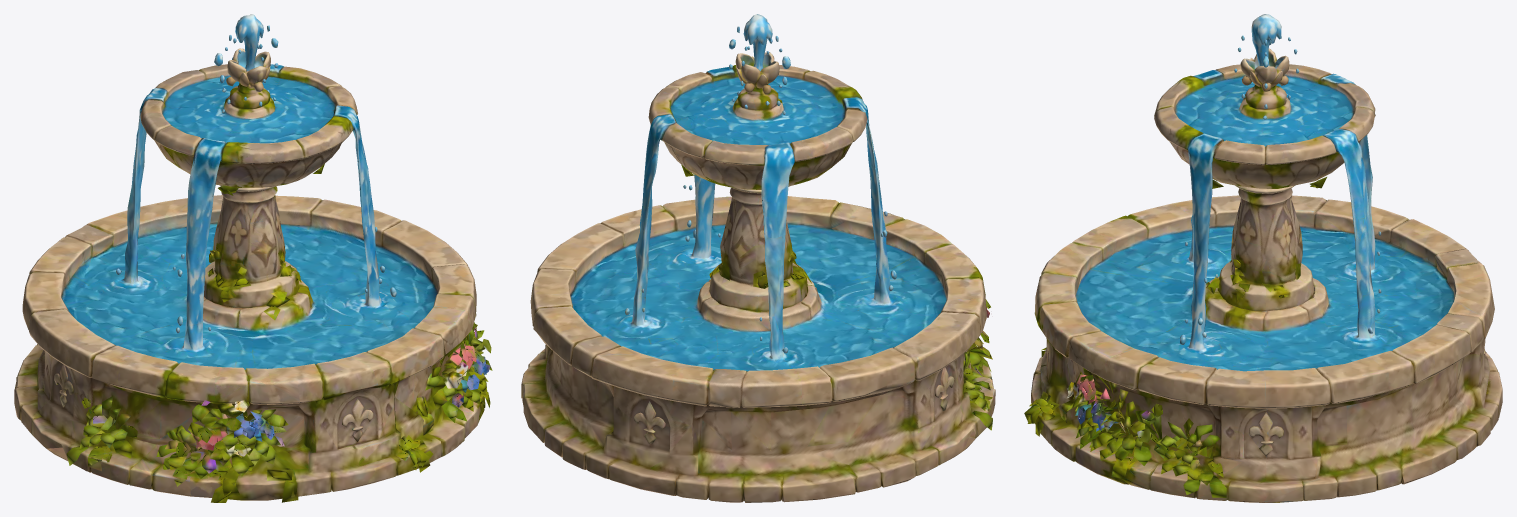
File: fountain.glb
3 views of the same model, side by side, from view 1: azimuth 30°, elevation 25°; view 2: azimuth 150°, elevation 25°; view 3: azimuth 270°, elevation 25° (orthographic).
Parts seen in each view (by area): view 1: geometry_0; view 2: geometry_0; view 3: geometry_0.
Part boxes in pixels (bbox=[...]): geometry_0: bbox=[14, 14, 492, 502]; geometry_0: bbox=[521, 14, 995, 502]; geometry_0: bbox=[1024, 14, 1502, 502].
Bounding box in the file's own units: 0.9512 × 0.8584 × 0.9497.
Materials: 1 (1 with a texture image).
